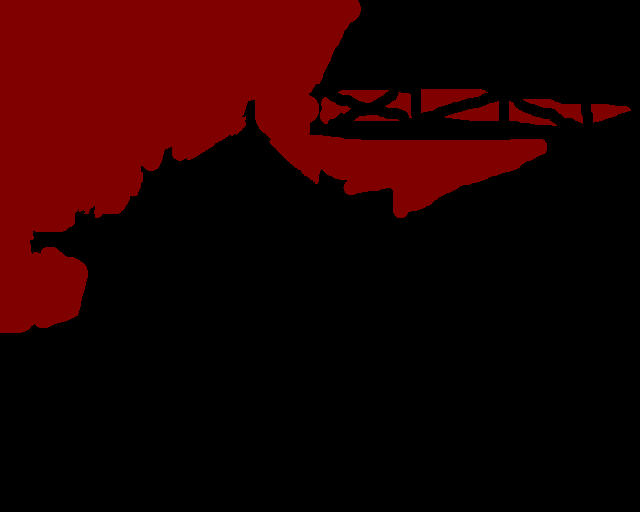Sky: (1, 1, 630, 332)
